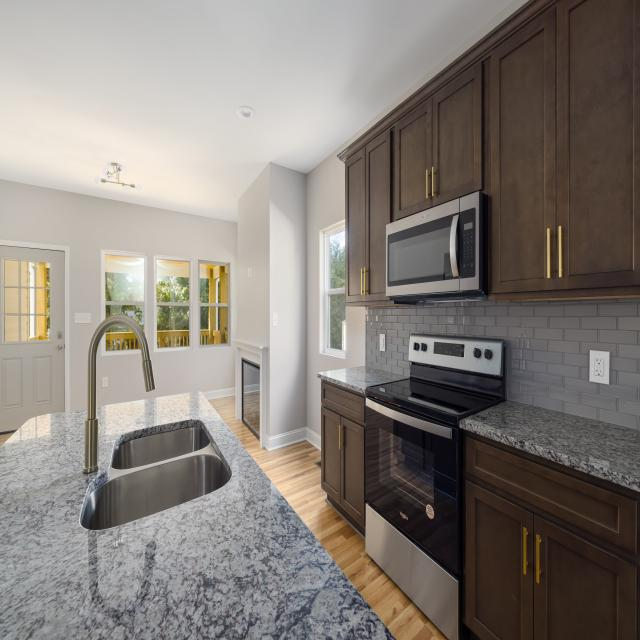Appliance_Microwave: (385, 194, 487, 297)
Appliance_Oven: (365, 335, 505, 640)
Appliance_Sink: (80, 316, 232, 531)
Cabinet_Shaker: (346, 0, 640, 299), (463, 438, 640, 640), (321, 382, 365, 538)
Countertop_Granite: (0, 391, 395, 640), (460, 402, 640, 493), (320, 366, 403, 392)
